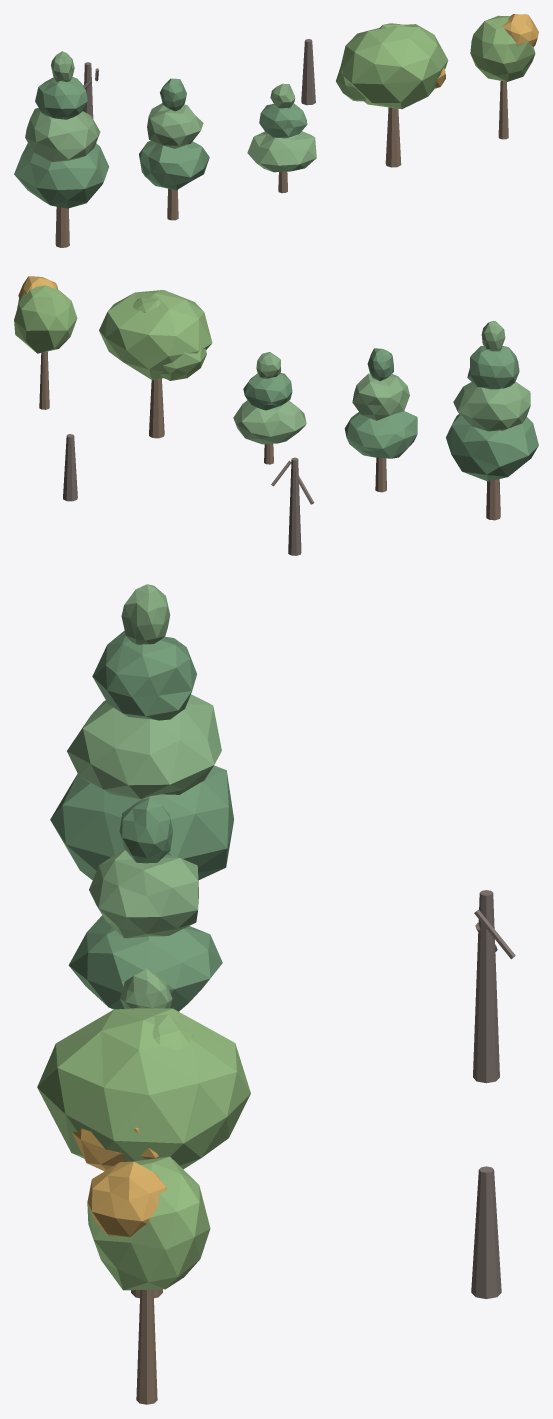
Rendered from tree_set.glb.
3 renders of one model, top to bottom at view 1: azimuth 30°, elevation 25°; view 2: azimuth 150°, elevation 25°; view 3: azimuth 270°, elevation 25°, orthographic. The views are drawn at different scales.
Parts seen in each view (by area): view 1: CanopyMain_BA, Tier1_PineA, Tier2_PineA, Canopy_BB1, Tier1_PineB, Tier1_PineC, Tier2_PineB, Tier3_PineA, Tier2_PineC, Canopy_BB2, Trunk_BroadA, Trunk_DeadB (+8 smaller); view 2: CanopyMain_BA, Tier1_PineA, Canopy_BB1, Tier2_PineA, Tier1_PineB, Tier1_PineC, Tier2_PineB, Tier3_PineA, Tier2_PineC, Trunk_DeadA, CanopyLeft_BA, Trunk_BroadA (+8 smaller); view 3: CanopyMain_BA, Tier2_PineA, Tier1_PineA, Canopy_BB1, Tier1_PineB, Tier2_PineB, Tier3_PineA, Canopy_BB2, Trunk_DeadA, Trunk_DeadB, Top_PineB, Top_PineA (+4 smaller).
Part boxes in pixels (x1,y1,x2,y2): CanopyMain_BA: (339, 24, 448, 109); Tier1_PineA: (14, 143, 109, 208); Tier2_PineA: (25, 108, 100, 162); Canopy_BB1: (470, 15, 535, 81); Tier1_PineB: (139, 140, 209, 190); Tier1_PineC: (247, 131, 316, 172); Tier2_PineB: (147, 103, 203, 148); Tier3_PineA: (35, 77, 87, 119); Tier2_PineC: (259, 103, 307, 138); Canopy_BB2: (502, 14, 538, 46); Trunk_BroadA: (385, 107, 401, 167); Trunk_DeadB: (301, 39, 315, 105); CanopyMain_BA: (99, 290, 212, 380); Tier1_PineA: (446, 414, 538, 481); Canopy_BB1: (14, 285, 77, 353); Tier2_PineA: (453, 381, 530, 431); Tier1_PineB: (344, 411, 417, 458); Tier1_PineC: (233, 400, 306, 444); Tier2_PineB: (352, 373, 409, 420); Tier3_PineA: (467, 346, 519, 389); Tier2_PineC: (243, 373, 292, 410); Trunk_DeadA: (288, 457, 301, 555); CanopyLeft_BA: (160, 346, 206, 380); Trunk_BroadA: (149, 378, 164, 438); CanopyMain_BA: (37, 1007, 250, 1169); Tier2_PineA: (67, 694, 221, 799); Tier1_PineA: (50, 765, 233, 880); Canopy_BB1: (87, 1156, 210, 1290); Tier1_PineB: (68, 915, 222, 1011); Tier2_PineB: (89, 848, 198, 938); Tier3_PineA: (92, 630, 196, 720); Canopy_BB2: (87, 1161, 166, 1237); Trunk_DeadA: (473, 890, 499, 1083); Trunk_DeadB: (471, 1166, 501, 1298); Top_PineB: (119, 798, 172, 863); Top_PineA: (121, 584, 170, 644).
Bounding box in the file's own units: 27.77 × 10.03 × 11.28.
